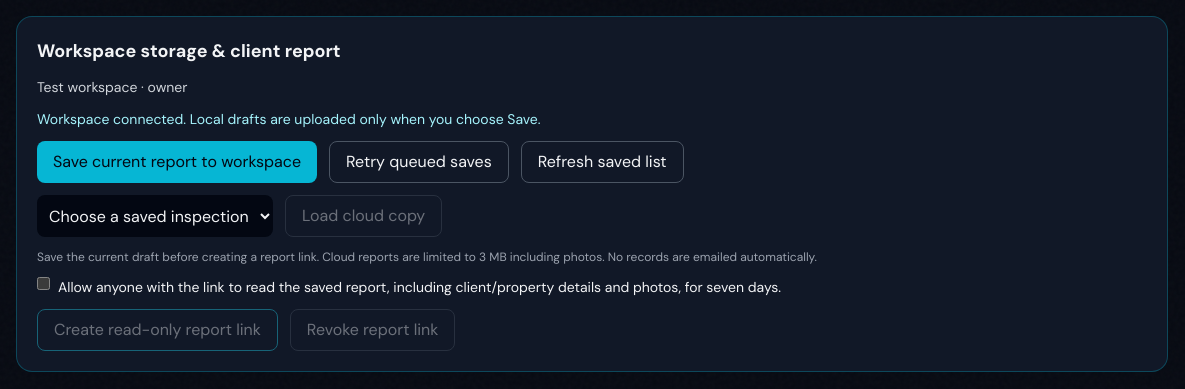
Test: does not upload queued private data when the signed-in account changes
Click the button "Save current report to workspace" at [177, 162], box [37,141,317,183]
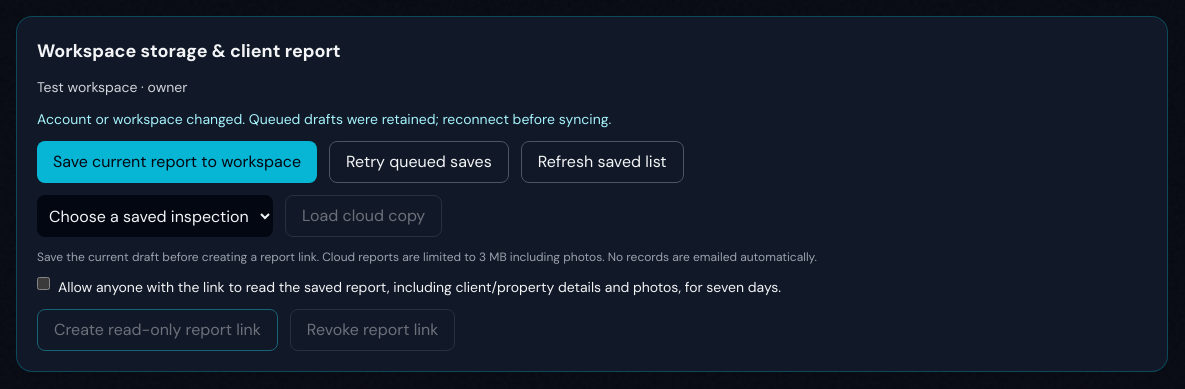
Now the text "Account or workspace changed" is shown, box [37,110,611,128]
